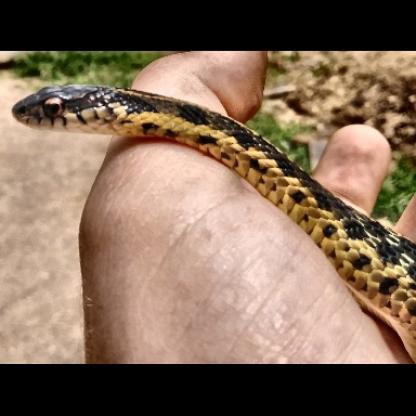Snake: (5, 83, 415, 310)
